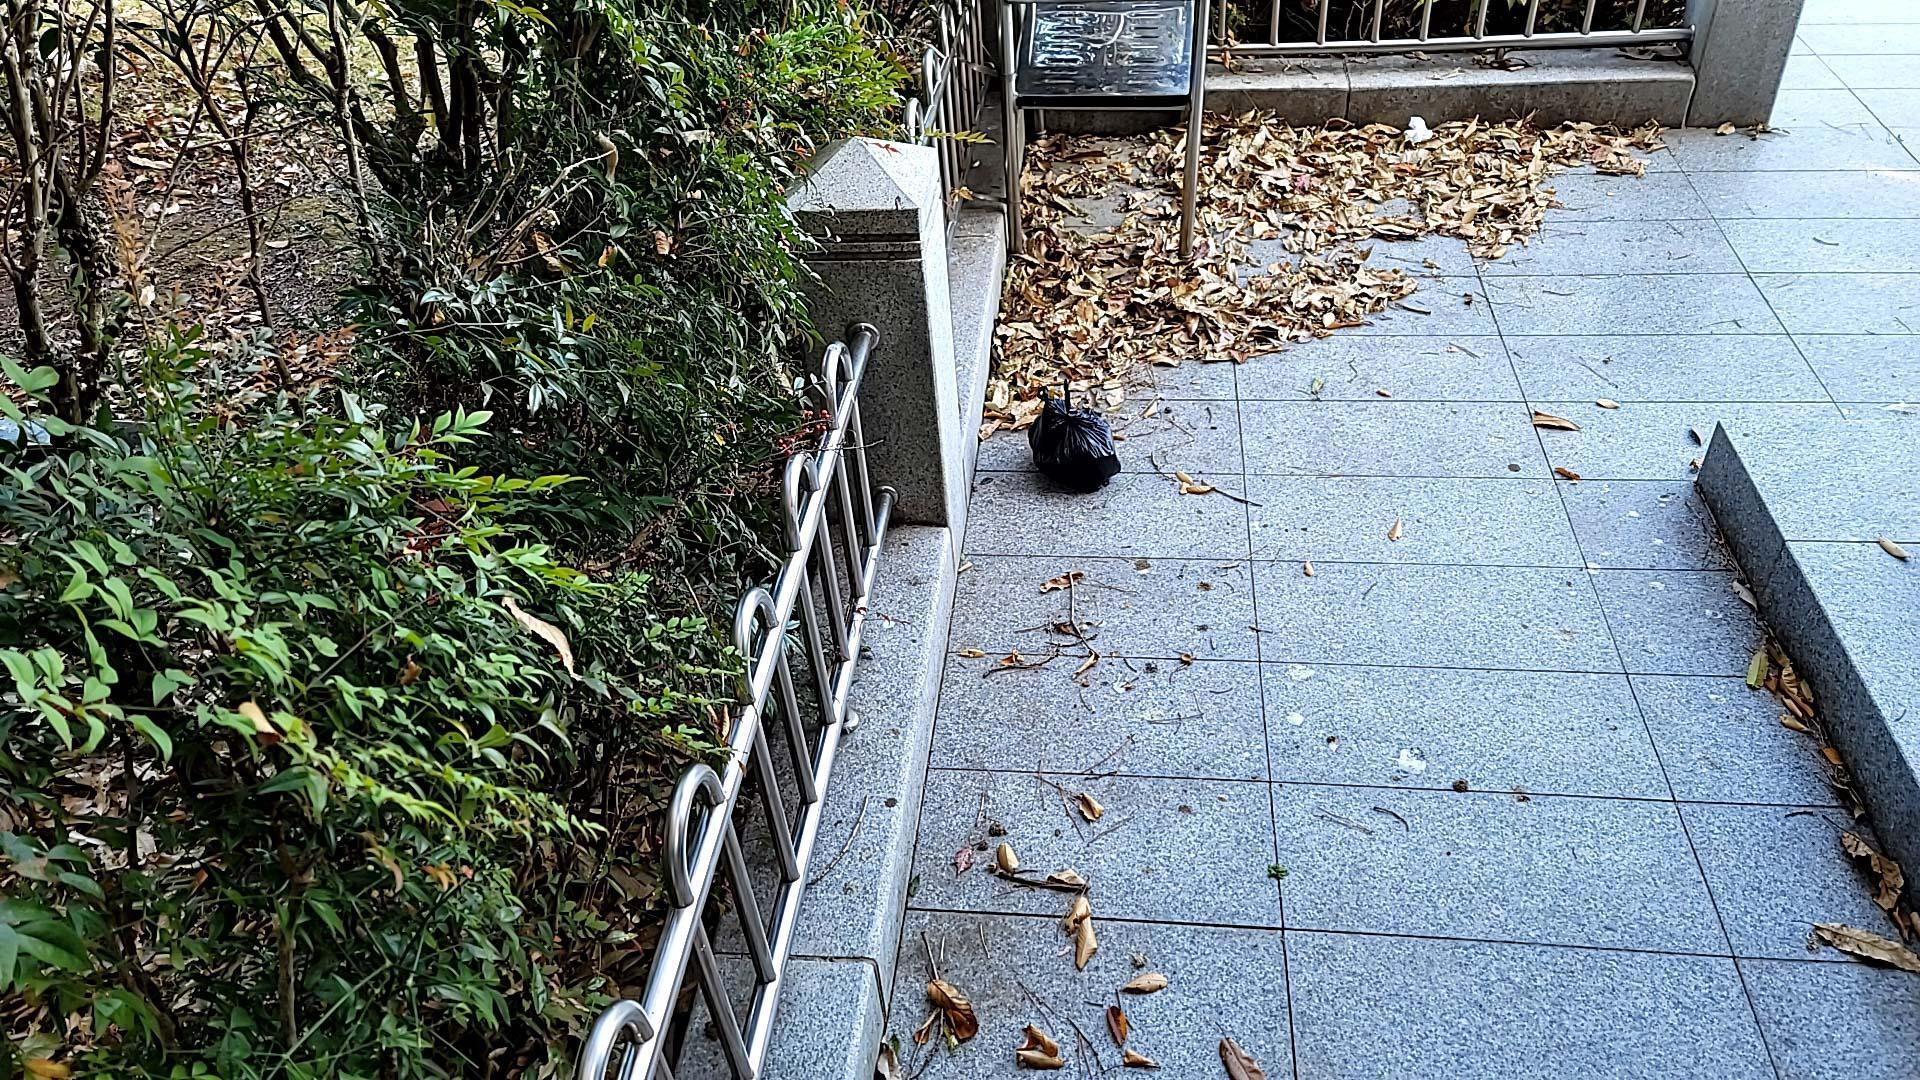black_bag: (1021, 373, 1131, 497)
